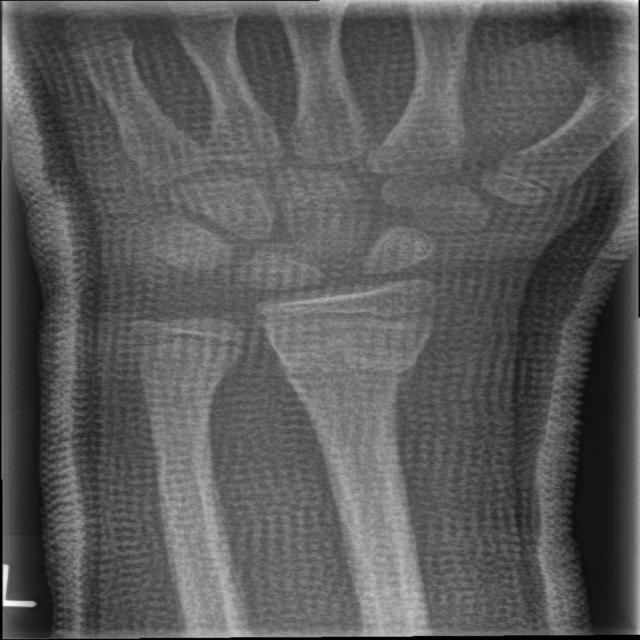radius fracture: (255, 324, 464, 473)
